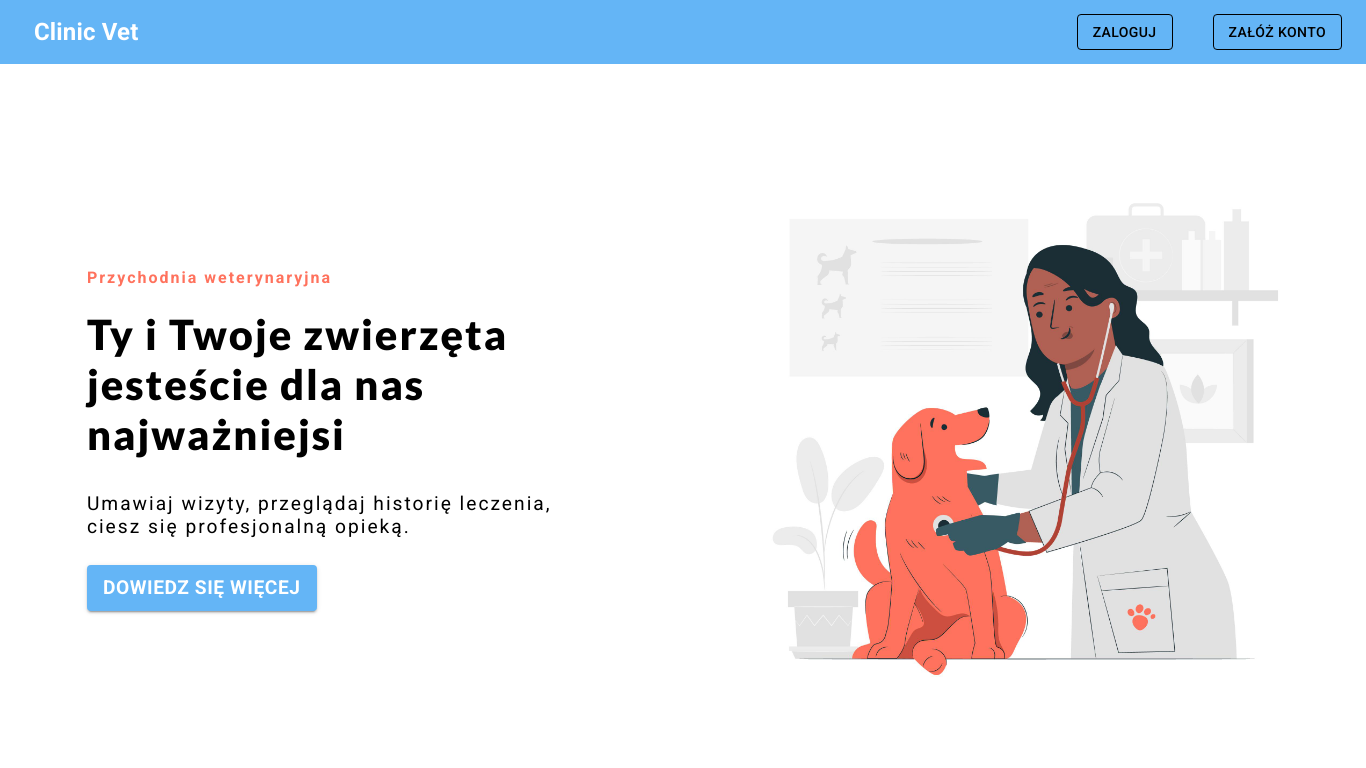
Test case: Test  register flow › should not login - password not match
Click the link "Załóż konto".
click(1278, 33)  # box [1213,14,1343,51]
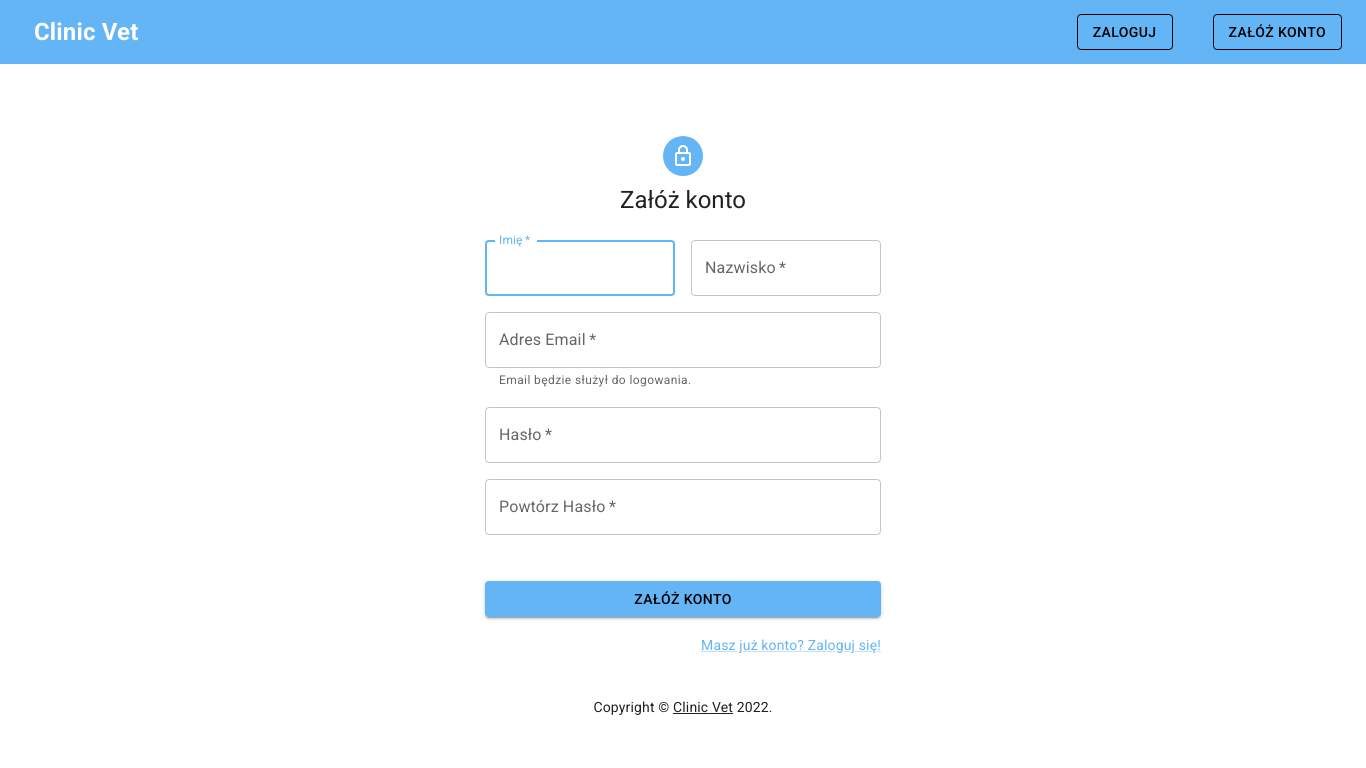
Type "TestName" into the field named "firstName".
click(580, 268); type("TestName")  # box [485,240,675,296]
Type "TestSurname" into the field named "lastName".
click(786, 268); type("TestSurname")  # box [691,240,881,296]
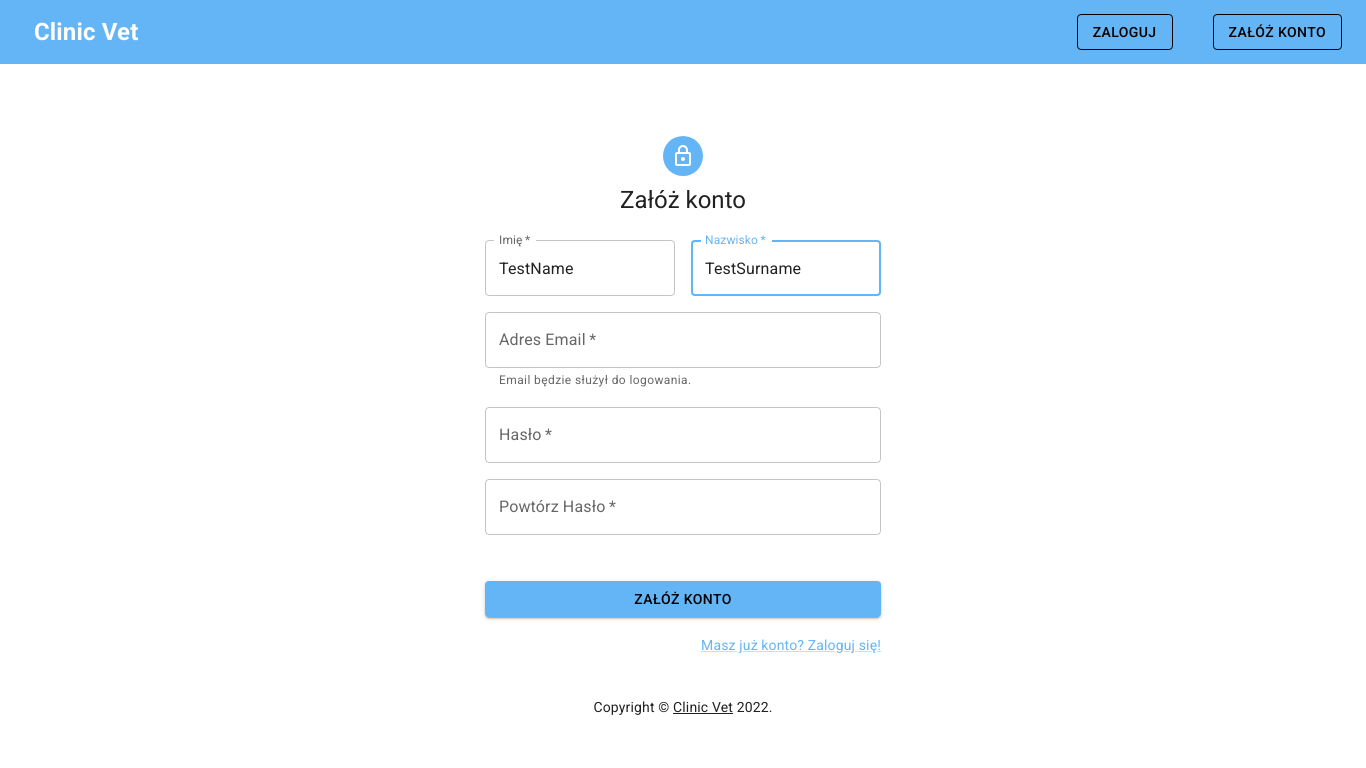
Type "adamnowak@gmail.com" into the field named "email".
click(683, 340); type("adamnowak@gmail.com")  # box [485,312,881,368]
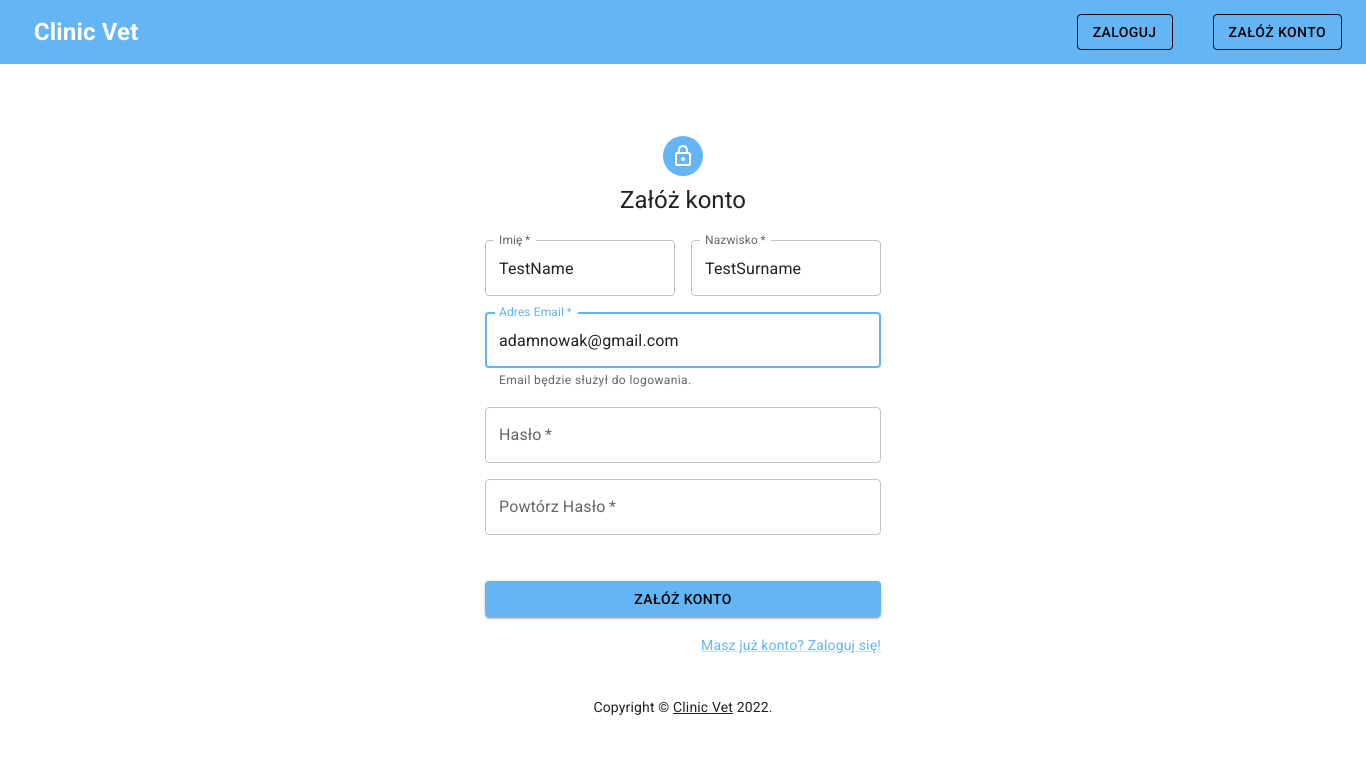
Type "123" into the password field named "password".
click(683, 435); type("123")  # box [485,407,881,463]
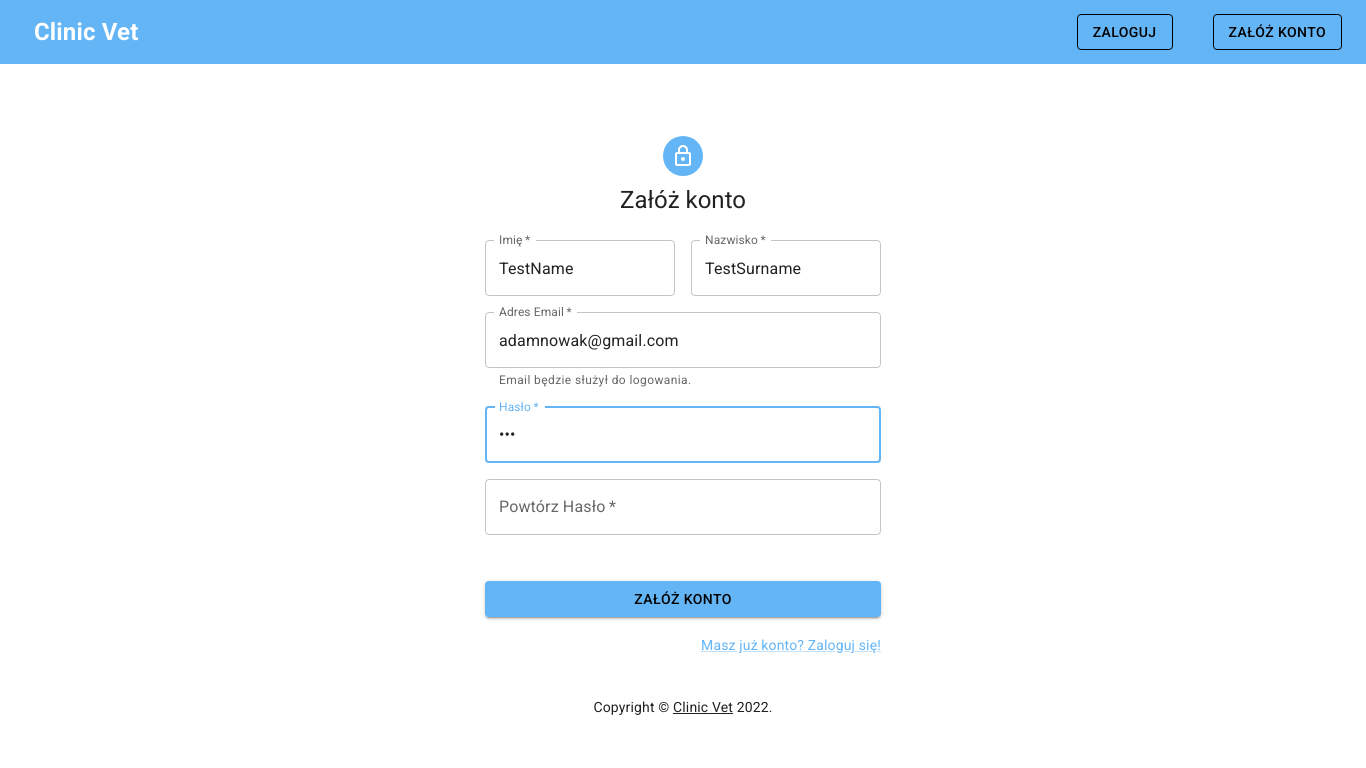
Type "12345" into the password field named "repeatPassword".
click(683, 507); type("12345")  # box [485,479,881,535]
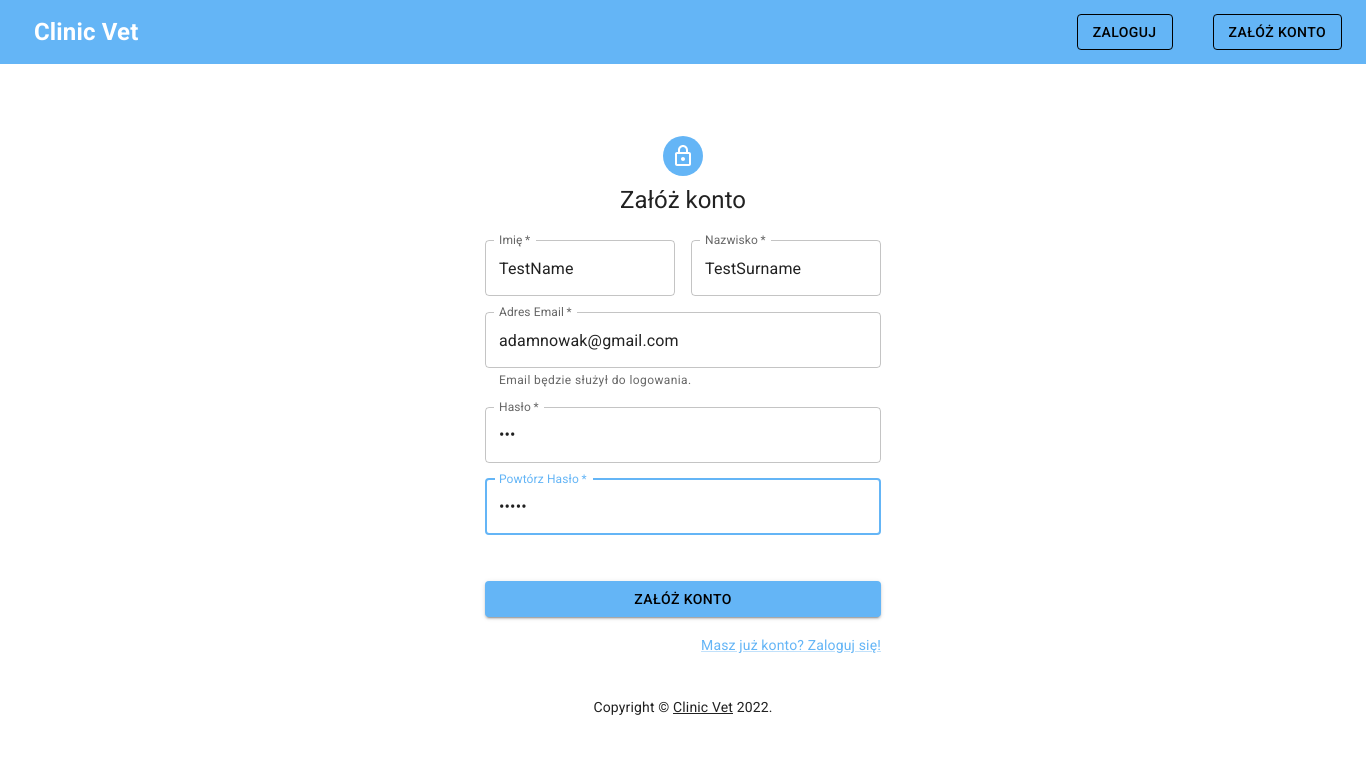
Click the submit button.
click(683, 600)  # box [485,581,881,618]
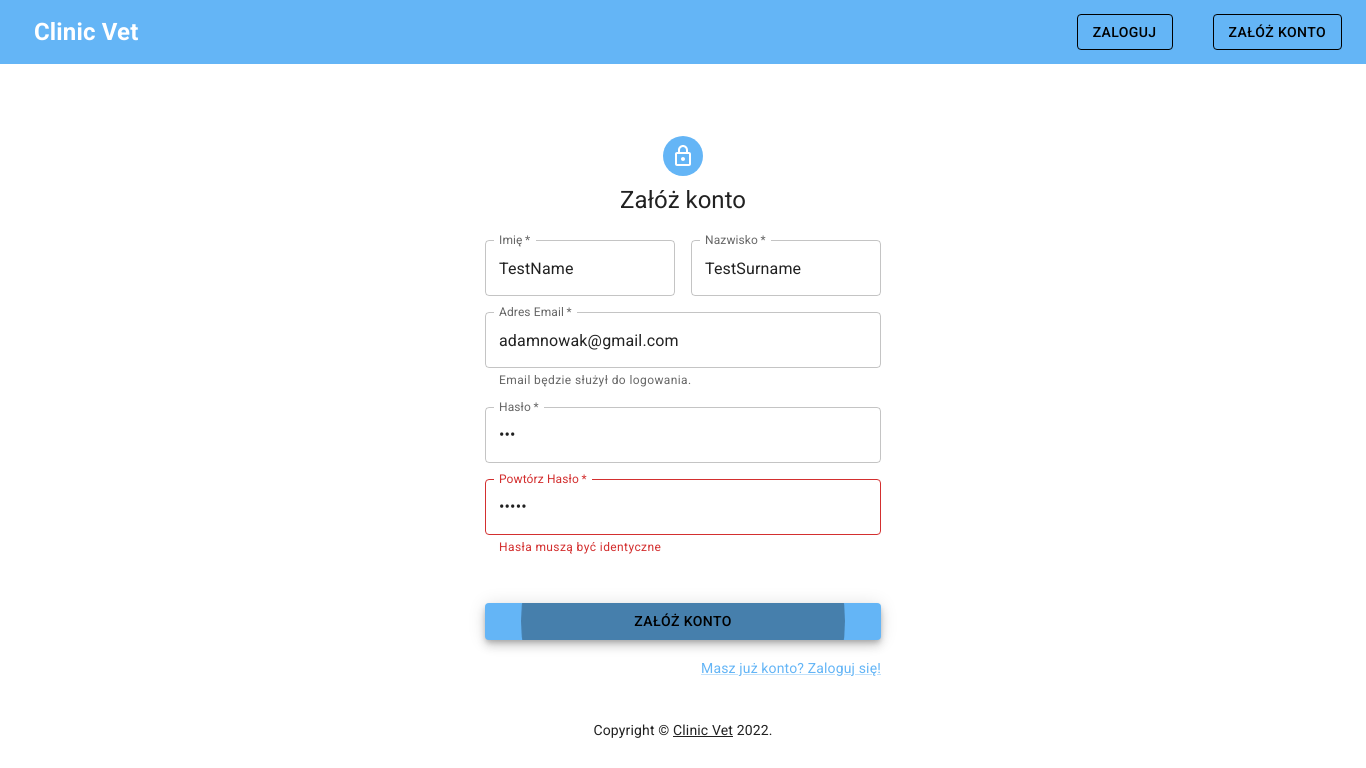
Now the text with id "repeatPassword-helper-text" reads "Hasła muszą być identyczne", box [499,540,661,554]
